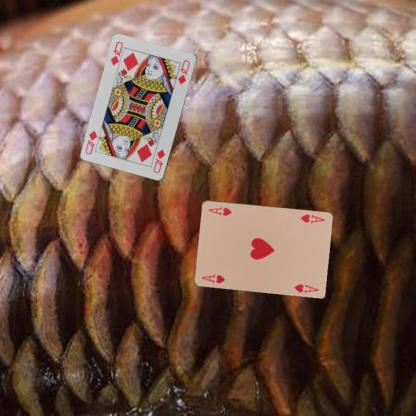Ah: (297, 211, 326, 225), (199, 272, 227, 285)
Qd: (108, 39, 126, 70), (151, 147, 166, 174)
